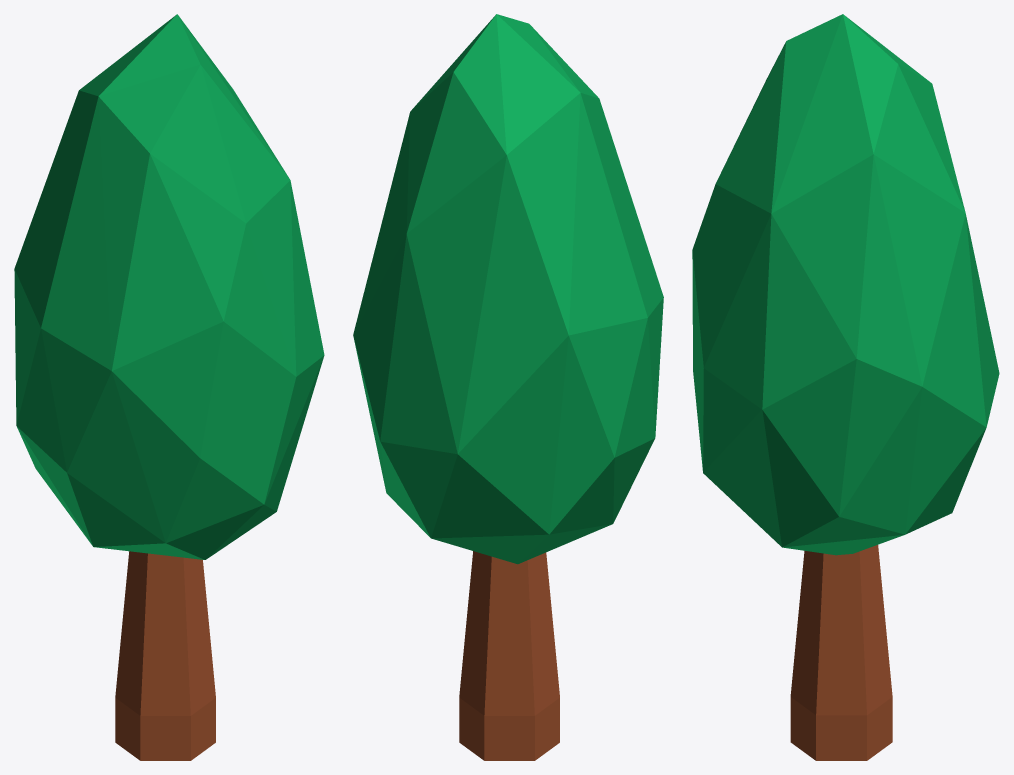
The model's file is Tree2.fbx.
3 renders of one model, left to right at view 1: azimuth 30°, elevation 25°; view 2: azimuth 150°, elevation 25°; view 3: azimuth 270°, elevation 25°, orthographic.
Parts seen in each view (by area): view 1: Icosphere; view 2: Icosphere; view 3: Icosphere.
Part boxes in pixels (bbox=[...]): Icosphere: bbox=[14, 14, 324, 760]; Icosphere: bbox=[353, 14, 663, 760]; Icosphere: bbox=[692, 14, 999, 760].
Size of the model in its own units: 349 by 919 by 348.
